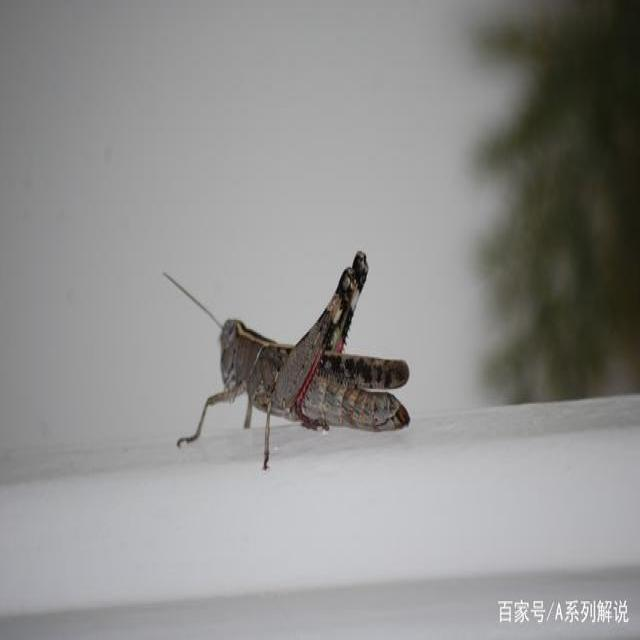ZhaMeng: (140, 245, 426, 472)
